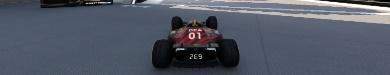Car: (151, 15, 239, 68)
Solid White and black: (168, 2, 389, 16)
obstacles-Borders: (38, 0, 137, 7)
